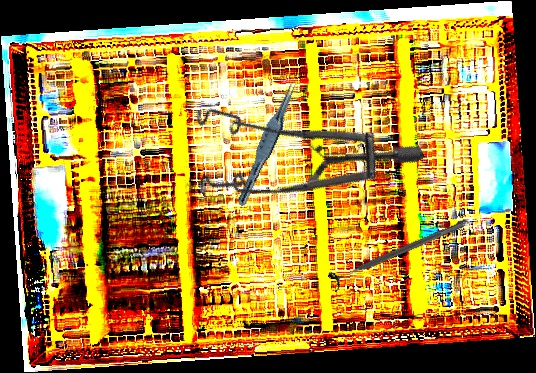Fixation Ring: (326, 213, 468, 294)
Speculum: (167, 28, 426, 255)
Tissue Forceps: (236, 75, 301, 210)
